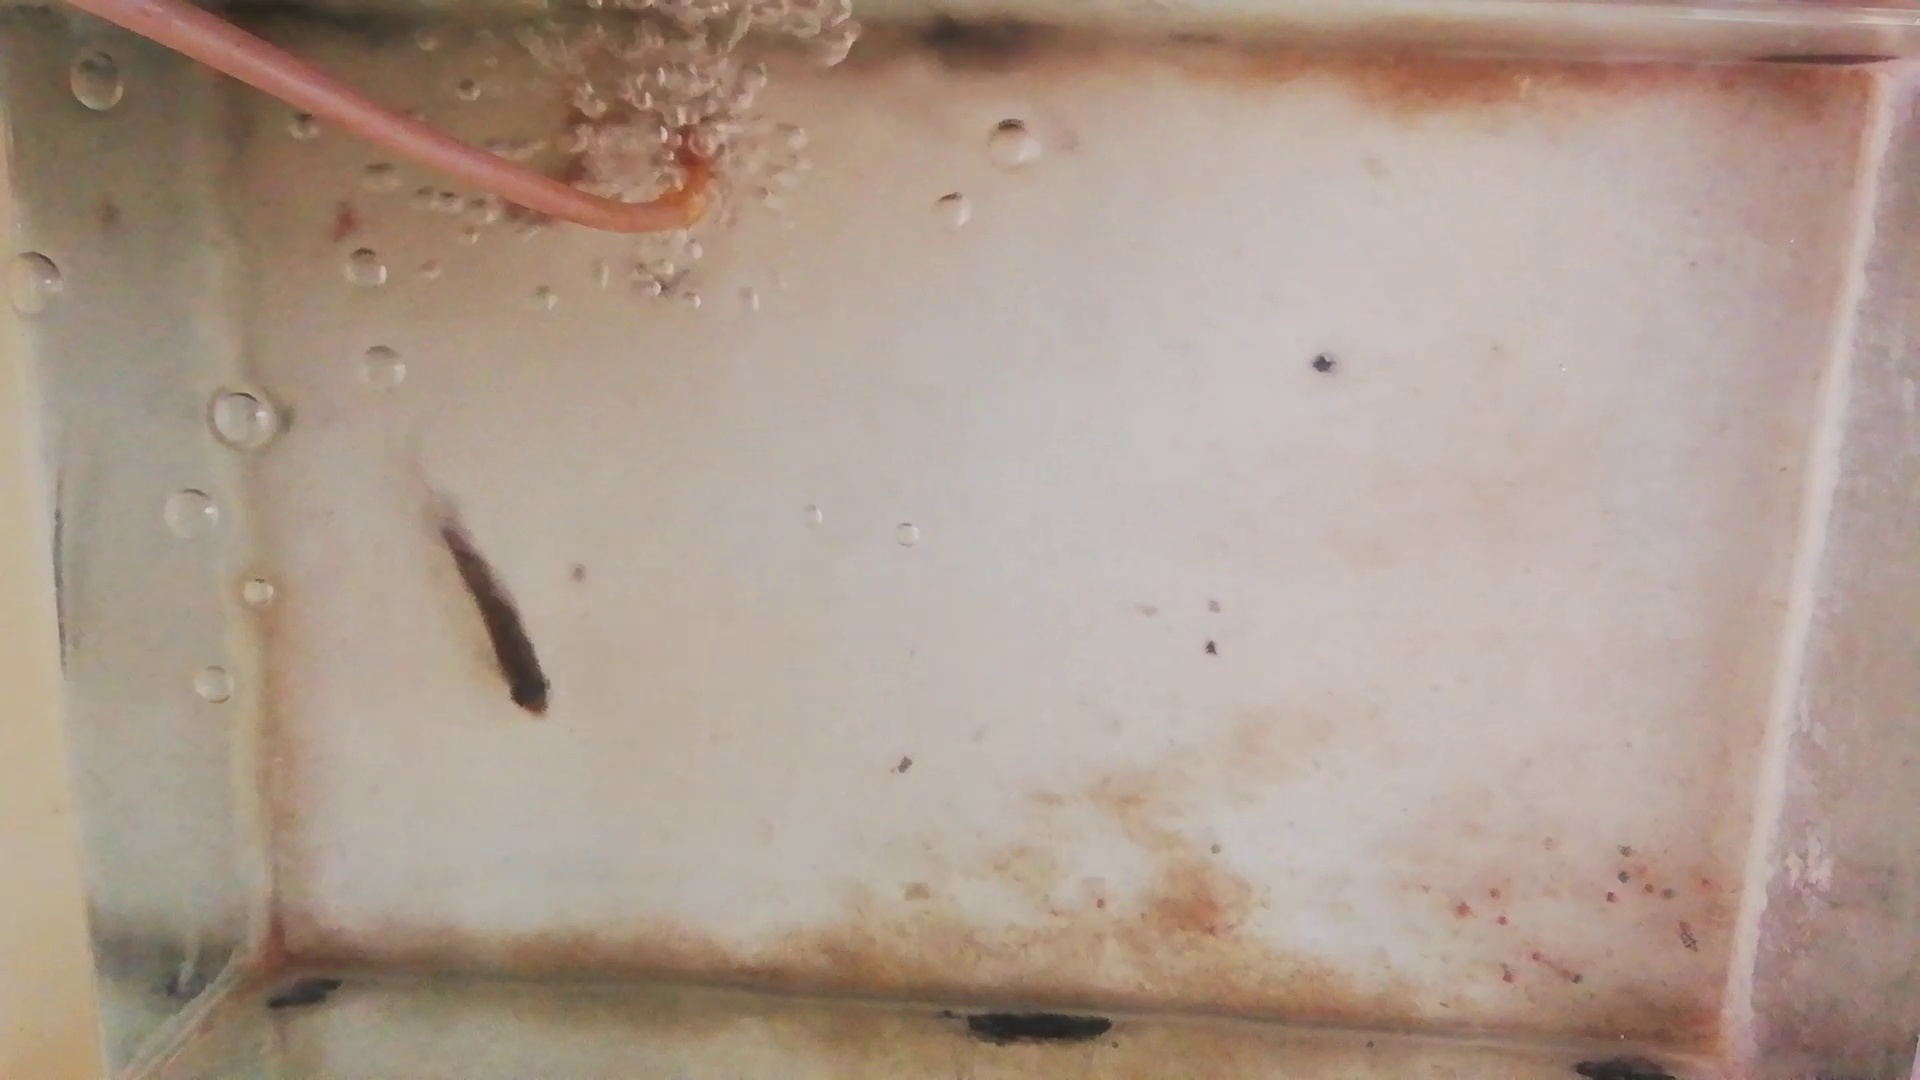fish: (439, 520, 553, 717), (534, 100, 644, 193)
